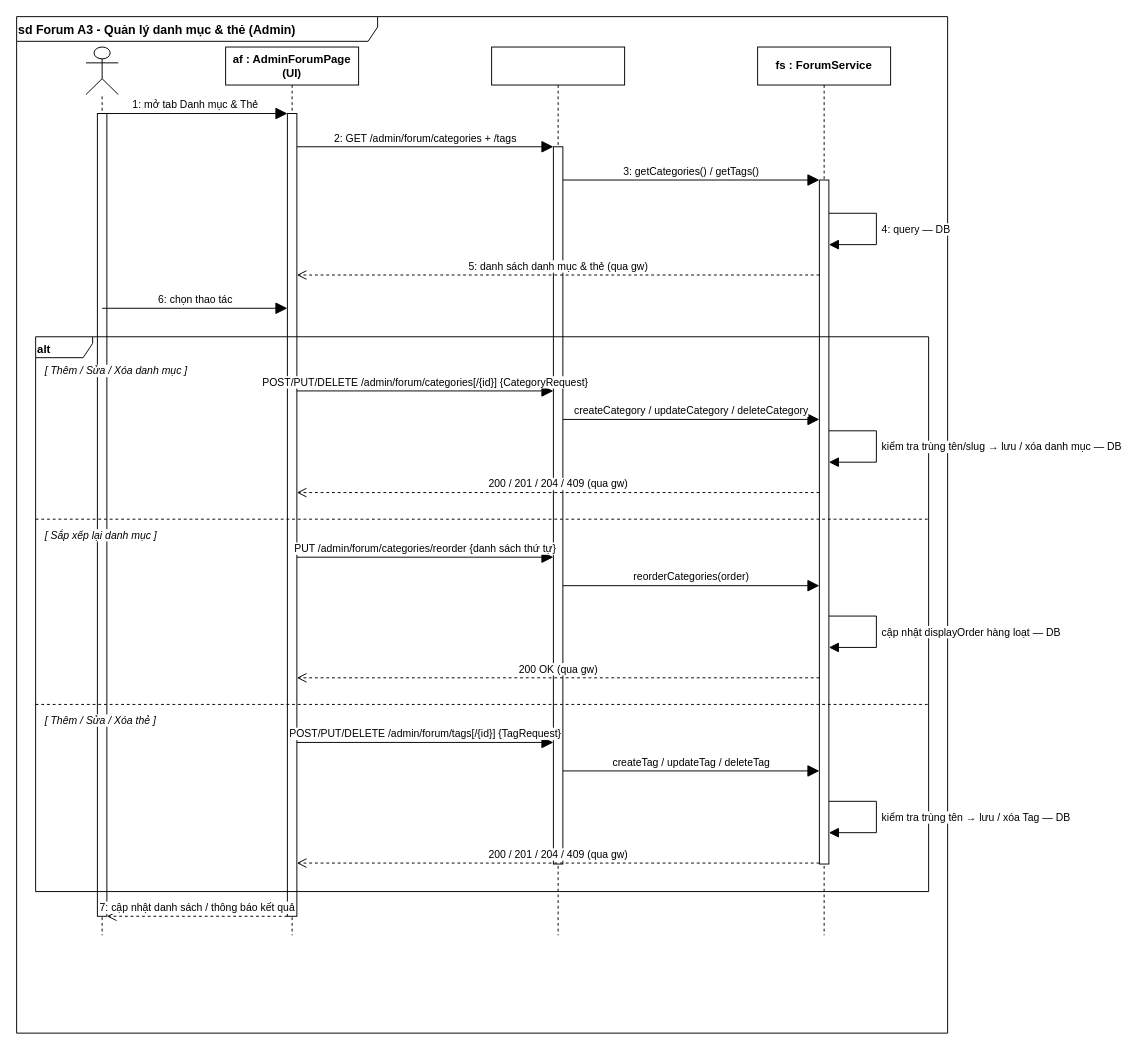
The diagram is 1139 pixels wide and 1050 high, and some of its shapes have lost their labels. Here are the shapes that lost their labels. From the top down, the centre of each, then its label:
At pixel 101 70: "Admin".
At pixel 558 490: "gw : ApiGateway".
